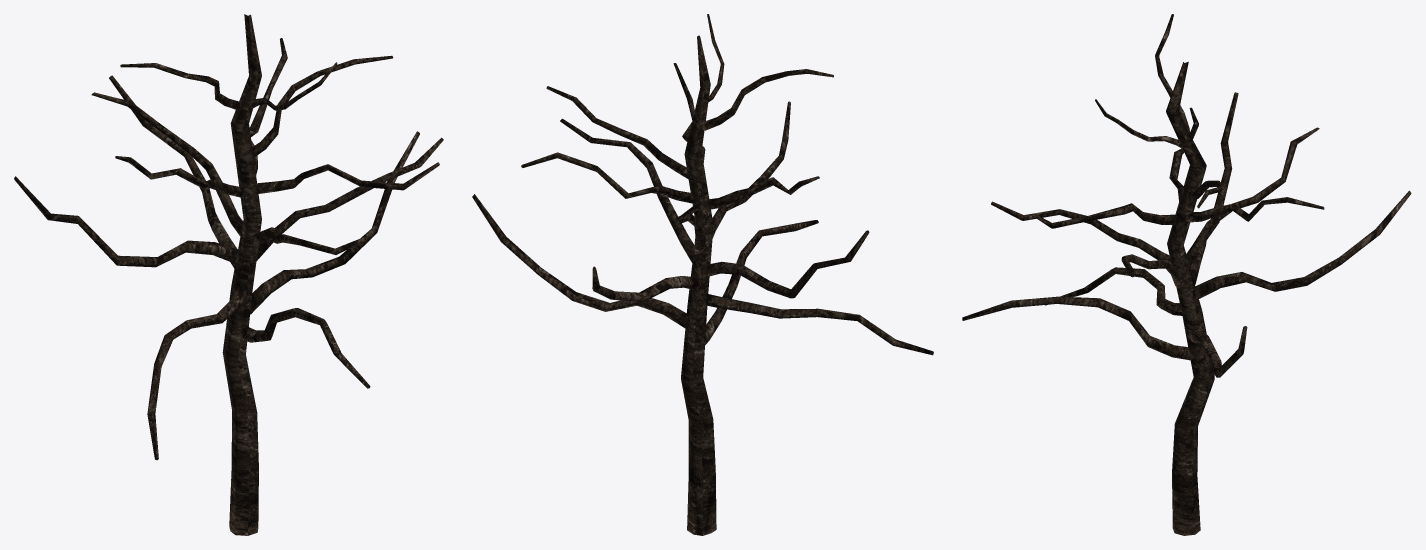
Rendered from tree_normalNOLEAF.fbx.
The picture shows the model from 3 angles, left to right: view 1: azimuth 30°, elevation 25°; view 2: azimuth 150°, elevation 25°; view 3: azimuth 270°, elevation 25°; orthographic projection. The views are drawn at different scales.
Visible parts, largest first — view 1: tree_RAMnoleaf; view 2: tree_RAMnoleaf; view 3: tree_RAMnoleaf.
Boxes of the visible parts, <box> form: tree_RAMnoleaf: <box>14,14,443,535</box>; tree_RAMnoleaf: <box>472,14,933,535</box>; tree_RAMnoleaf: <box>962,14,1411,535</box>.
Size of the model in its own units: 639 by 766 by 664.
